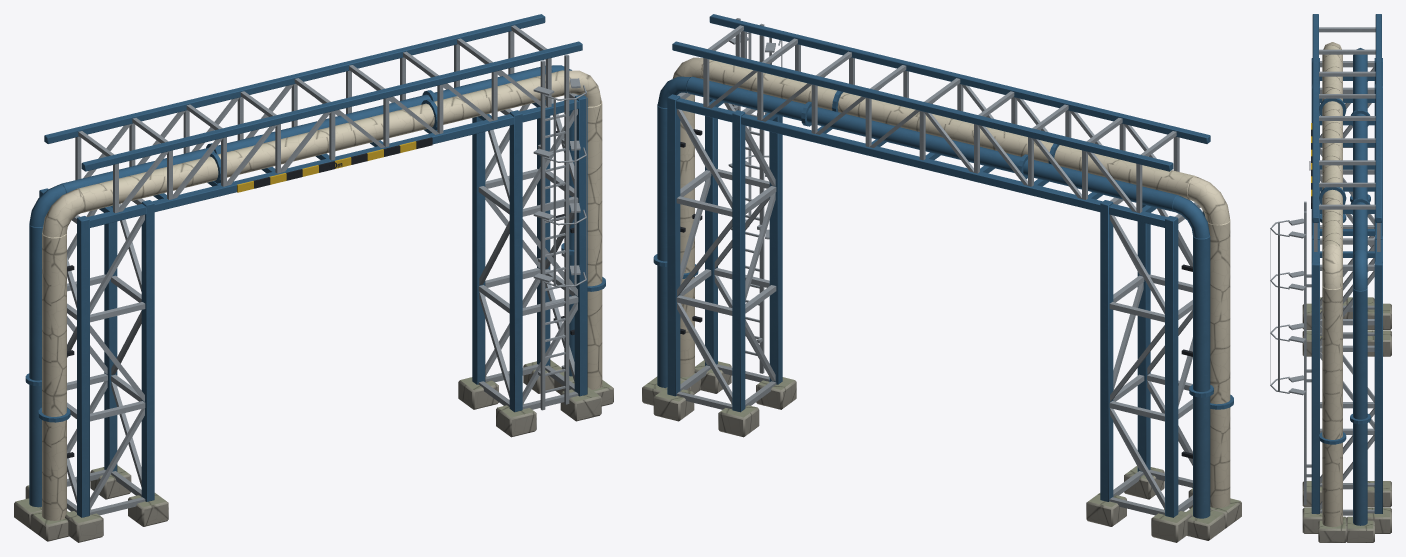
The model's file is pipe_bridge.glb.
3 views of the same model, side by side, from view 1: azimuth 30°, elevation 25°; view 2: azimuth 150°, elevation 25°; view 3: azimuth 270°, elevation 25° (orthographic). The views are drawn at different scales.
Visible parts, largest first — view 1: pipe_bridge; view 2: pipe_bridge; view 3: pipe_bridge.
Boxes of the visible parts, box(x1,y1,x2,y2) form: pipe_bridge: box(14, 14, 613, 542); pipe_bridge: box(642, 14, 1241, 542); pipe_bridge: box(1270, 14, 1391, 542).
Size of the model in its own units: 10.5 by 6.56 by 2.32.
9 materials, 9 textured.
